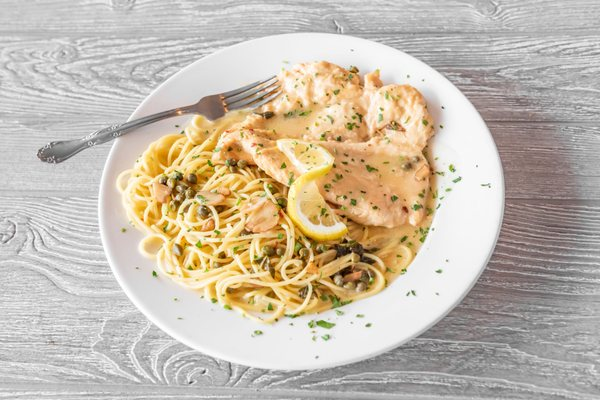burger: (35, 73, 282, 163)
